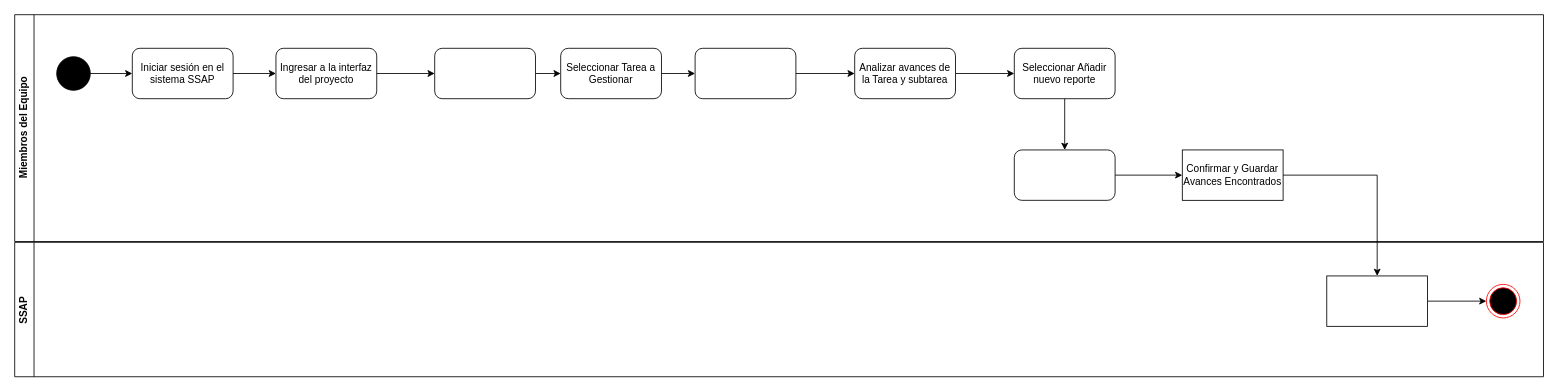
Some shapes in this 1558 by 391 pixel diagram are drawn without their labels. Here are the shapes that lost their labels. From the top down, the centre of each, then its label:
At point (485, 73): "Ingresar a tareas asignadas a revisar".
At point (745, 73): "Seleccionar subtarea a Gestionar".
At point (1064, 174): "Añadir información del reporte".
At point (1377, 300): "Guarda en base de datos".
